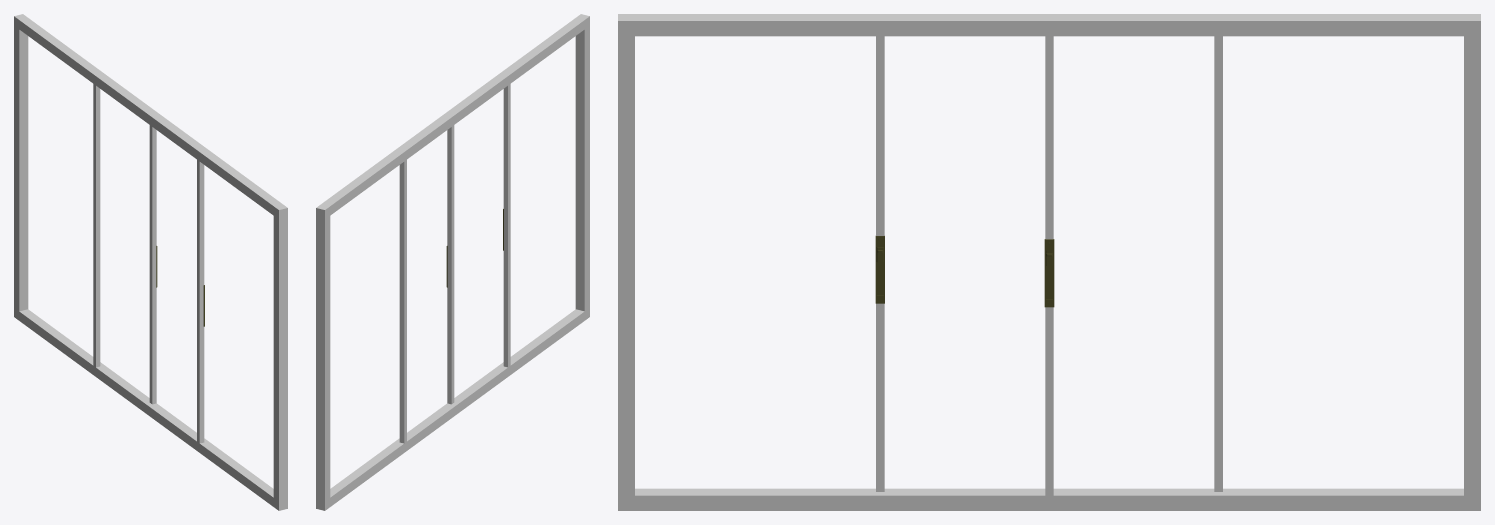
The model's file is window 1.fbx.
3 views of the same model, side by side, from view 1: azimuth 30°, elevation 25°; view 2: azimuth 150°, elevation 25°; view 3: azimuth 270°, elevation 25° (orthographic). The views are drawn at different scales.
Parts seen in each view (by area): view 1: flame.003, flame.004, flame.001, flame.002, flame, flame.005, flame.006; view 2: flame.003, flame.004, flame.002, flame.001, flame, flame.005, flame.006; view 3: flame.003, flame.004, flame.001, flame.002, flame, flame.005, flame.006.
Part boxes in pixels (x1,y1,x2,y2): flame.003: [14, 14, 287, 219]; flame.004: [14, 308, 287, 510]; flame.001: [273, 216, 287, 501]; flame.002: [14, 26, 28, 311]; flame: [93, 84, 100, 367]; flame.005: [149, 125, 156, 404]; flame.006: [197, 160, 204, 443]; flame.003: [316, 14, 589, 219]; flame.004: [316, 308, 589, 510]; flame.002: [316, 216, 330, 501]; flame.001: [575, 26, 589, 311]; flame: [399, 160, 406, 443]; flame.005: [447, 125, 454, 404]; flame.006: [503, 84, 510, 367]; flame.003: [618, 14, 1480, 36]; flame.004: [618, 488, 1480, 510]; flame.001: [618, 36, 634, 496]; flame.002: [1464, 36, 1480, 496]; flame: [1214, 36, 1222, 491]; flame.005: [1045, 36, 1053, 496]; flame.006: [876, 36, 884, 491].
Bounding box in the file's own units: 21.66 × 639 × 1020.
